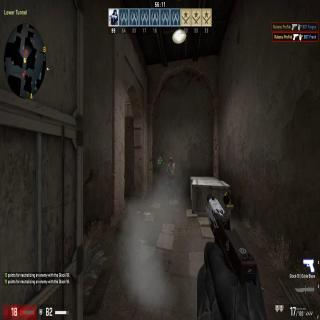CT-Body: (166, 156, 177, 205)
CT-Head: (168, 157, 175, 166)
